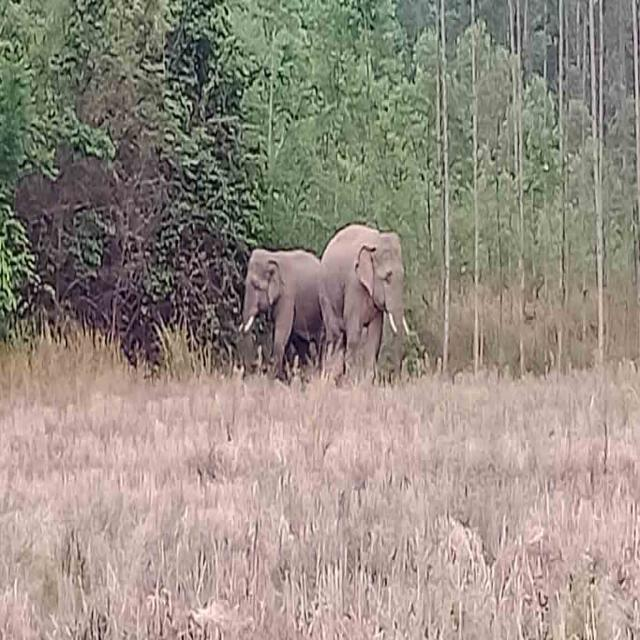Elephant: (318, 223, 415, 387), (225, 233, 324, 391)
